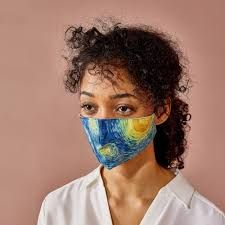with-mask: (71, 49, 173, 171)
